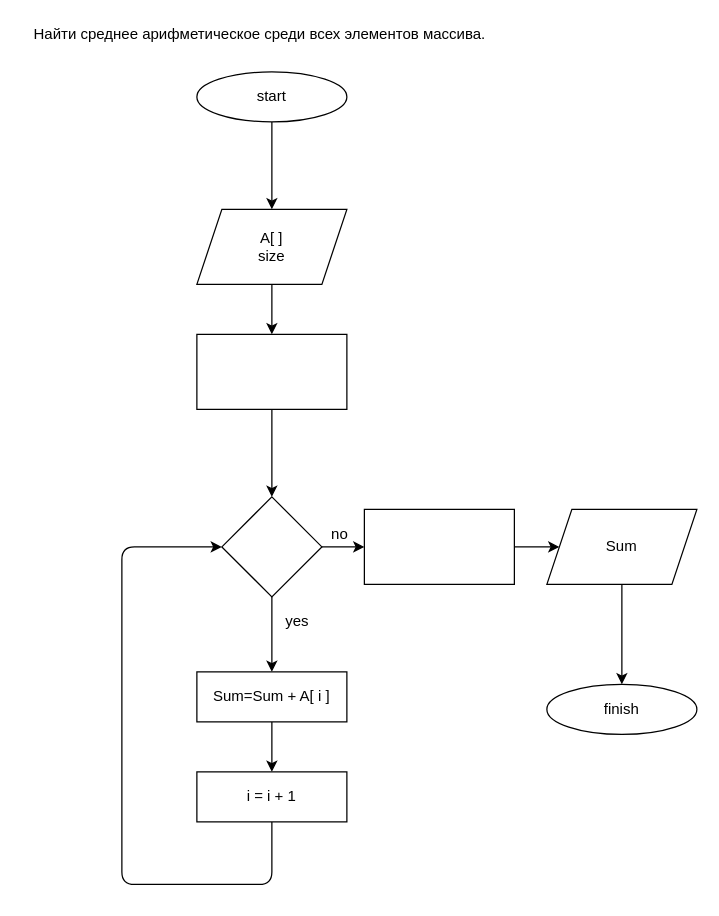
Image size: 719x916. Some labels were removed from this diagram. The shapes that lost their labels are listed below. From the top down, each one's centre as x and y in pixels, then its label:
At point 271,371: "i=0 sum = 0".
At point 271,546: "i<=size?".
At point 438,546: "Sum = Sum / size".
